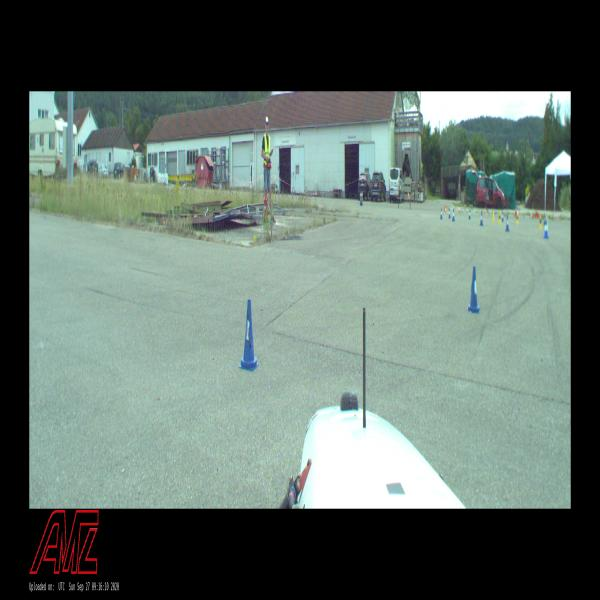blue_cone: (238, 299, 258, 371), (468, 267, 480, 312), (544, 220, 548, 238), (506, 216, 510, 231), (480, 212, 483, 226), (440, 207, 443, 220), (452, 209, 455, 222), (468, 209, 471, 220), (448, 208, 451, 219), (502, 210, 504, 222)
orange_cone: (407, 192, 410, 199), (444, 206, 447, 213), (458, 205, 461, 212), (555, 211, 557, 220), (484, 206, 486, 214), (517, 209, 519, 216), (531, 212, 533, 218)
yellow_cone: (539, 216, 542, 229), (498, 213, 501, 223), (492, 212, 494, 223), (516, 214, 518, 224)
